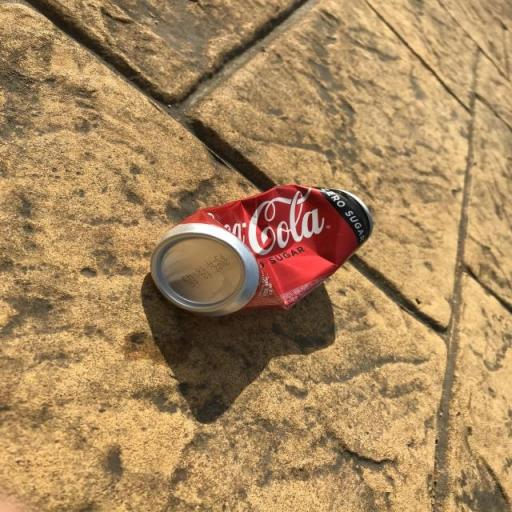metal: (130, 163, 394, 334)
